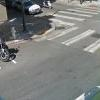Crosswalk: (39, 8, 93, 58)
